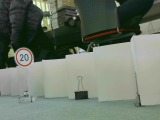speed_20: (13, 46, 35, 68)
